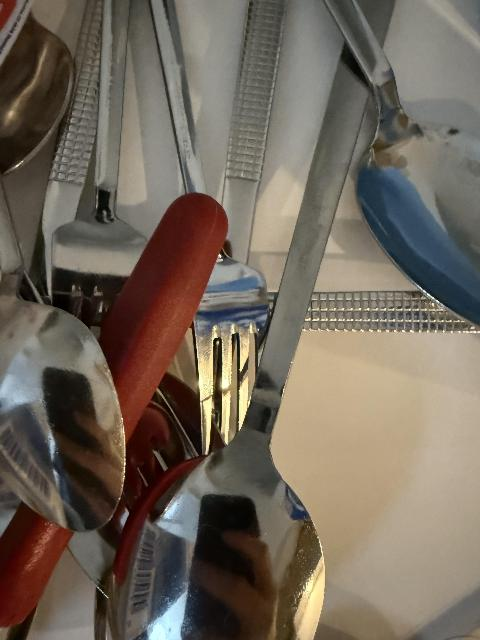Metal: (225, 2, 408, 640), (305, 0, 480, 335), (0, 284, 105, 541), (79, 8, 149, 221), (144, 22, 219, 175), (51, 200, 138, 330)
